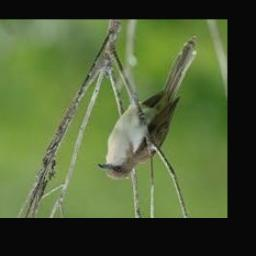Cuckoo: (98, 35, 198, 179)
